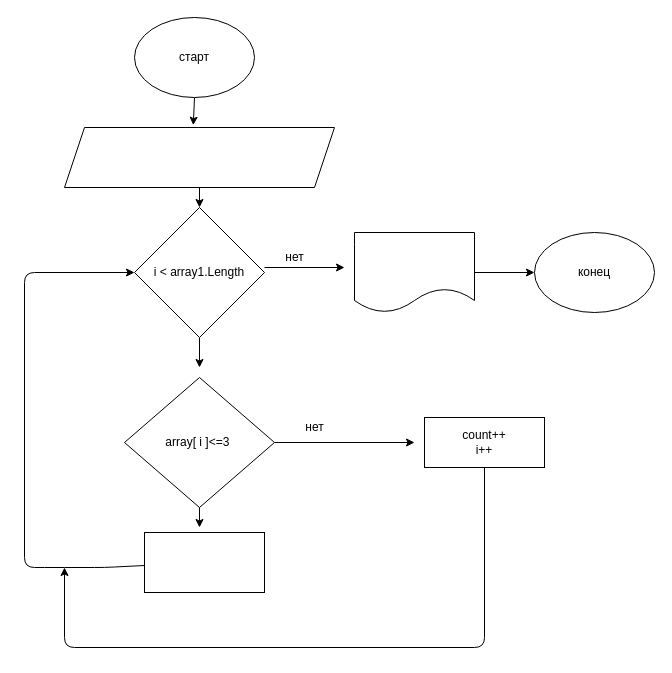
Image size: 672x673. Some labels were removed from this diagram. Each missing label, with the centre of its shape:
array2[i] =array1[i] count ++ i++: the point at 204,562
Print array2: the point at 414,272
string [] array1 -исходный массив string[] array2 -пустой массив count =0 i=0: the point at 199,157
